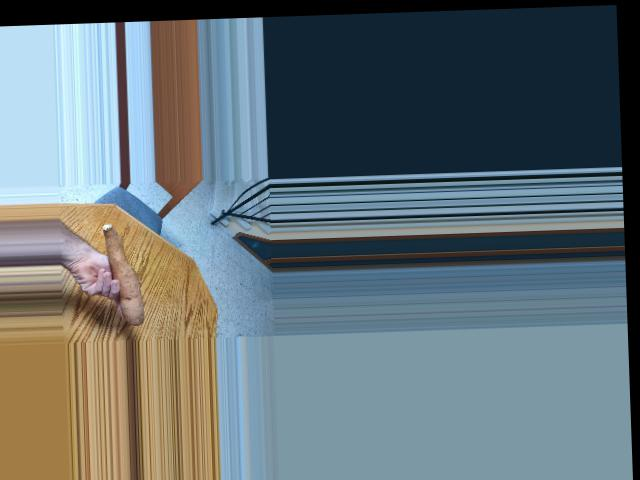sweet_potato: (97, 221, 148, 325)
